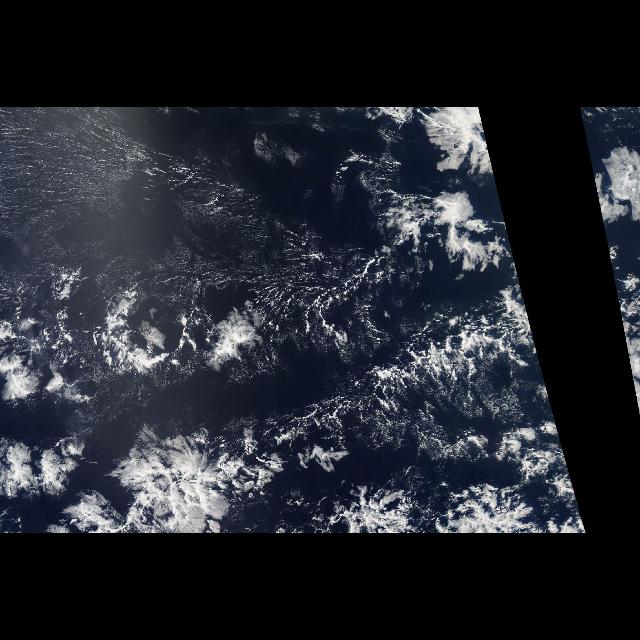Fish: (144, 235, 538, 470)
Flower: (312, 451, 554, 533), (107, 410, 269, 530)
Sugar: (0, 107, 318, 287), (376, 396, 484, 460)
